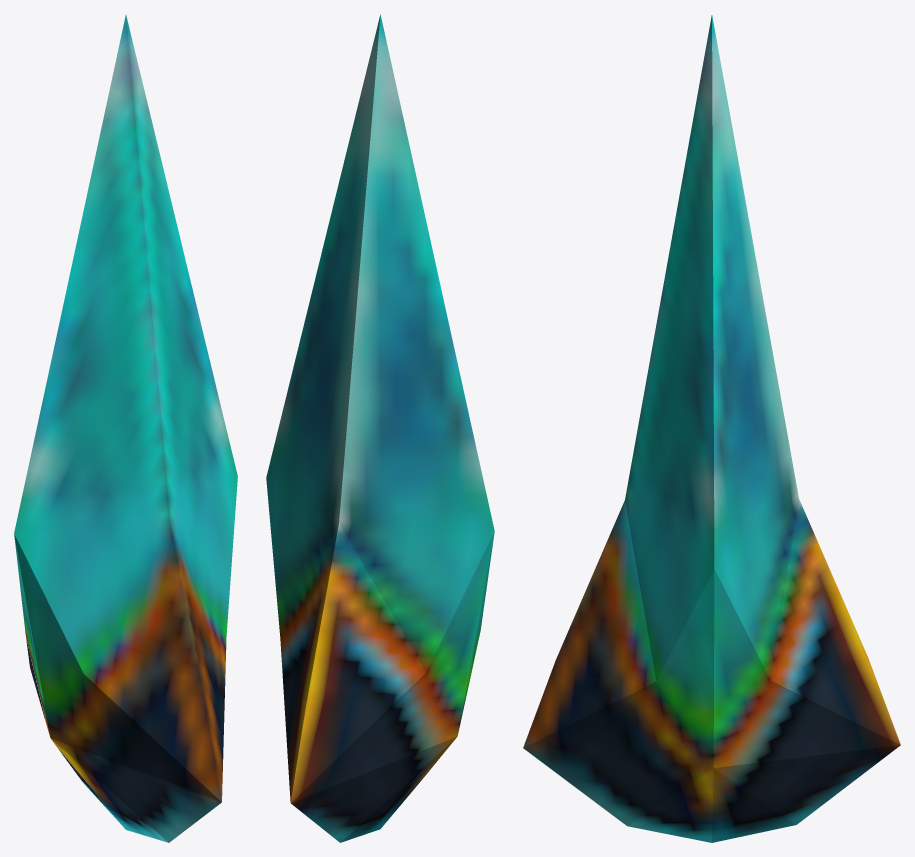
The model's file is TX_DLD_danlu20_shuijing001.FBX.
3 renders of one model, left to right at view 1: azimuth 30°, elevation 25°; view 2: azimuth 150°, elevation 25°; view 3: azimuth 270°, elevation 25°, orthographic.
Visible parts, largest first — view 1: TX_DLD_danlu20_shuijing001; view 2: TX_DLD_danlu20_shuijing001; view 3: TX_DLD_danlu20_shuijing001.
Part boxes in pixels (x1,y1,x2,y2): TX_DLD_danlu20_shuijing001: (14,15,237,842); TX_DLD_danlu20_shuijing001: (266,14,494,842); TX_DLD_danlu20_shuijing001: (523,15,900,842).
Size of the model in its own units: 38.91 by 134 by 55.39.
